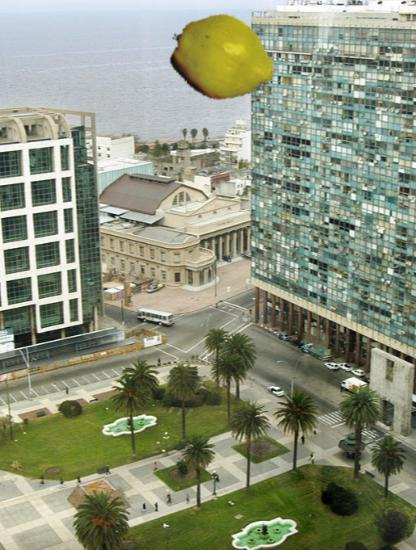Quince: (169, 3, 277, 111)
